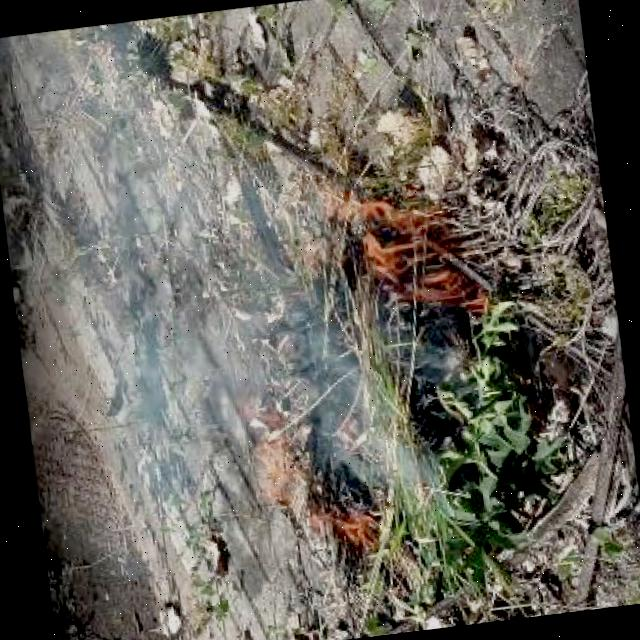fire: (233, 413, 383, 595), (337, 174, 507, 330)
